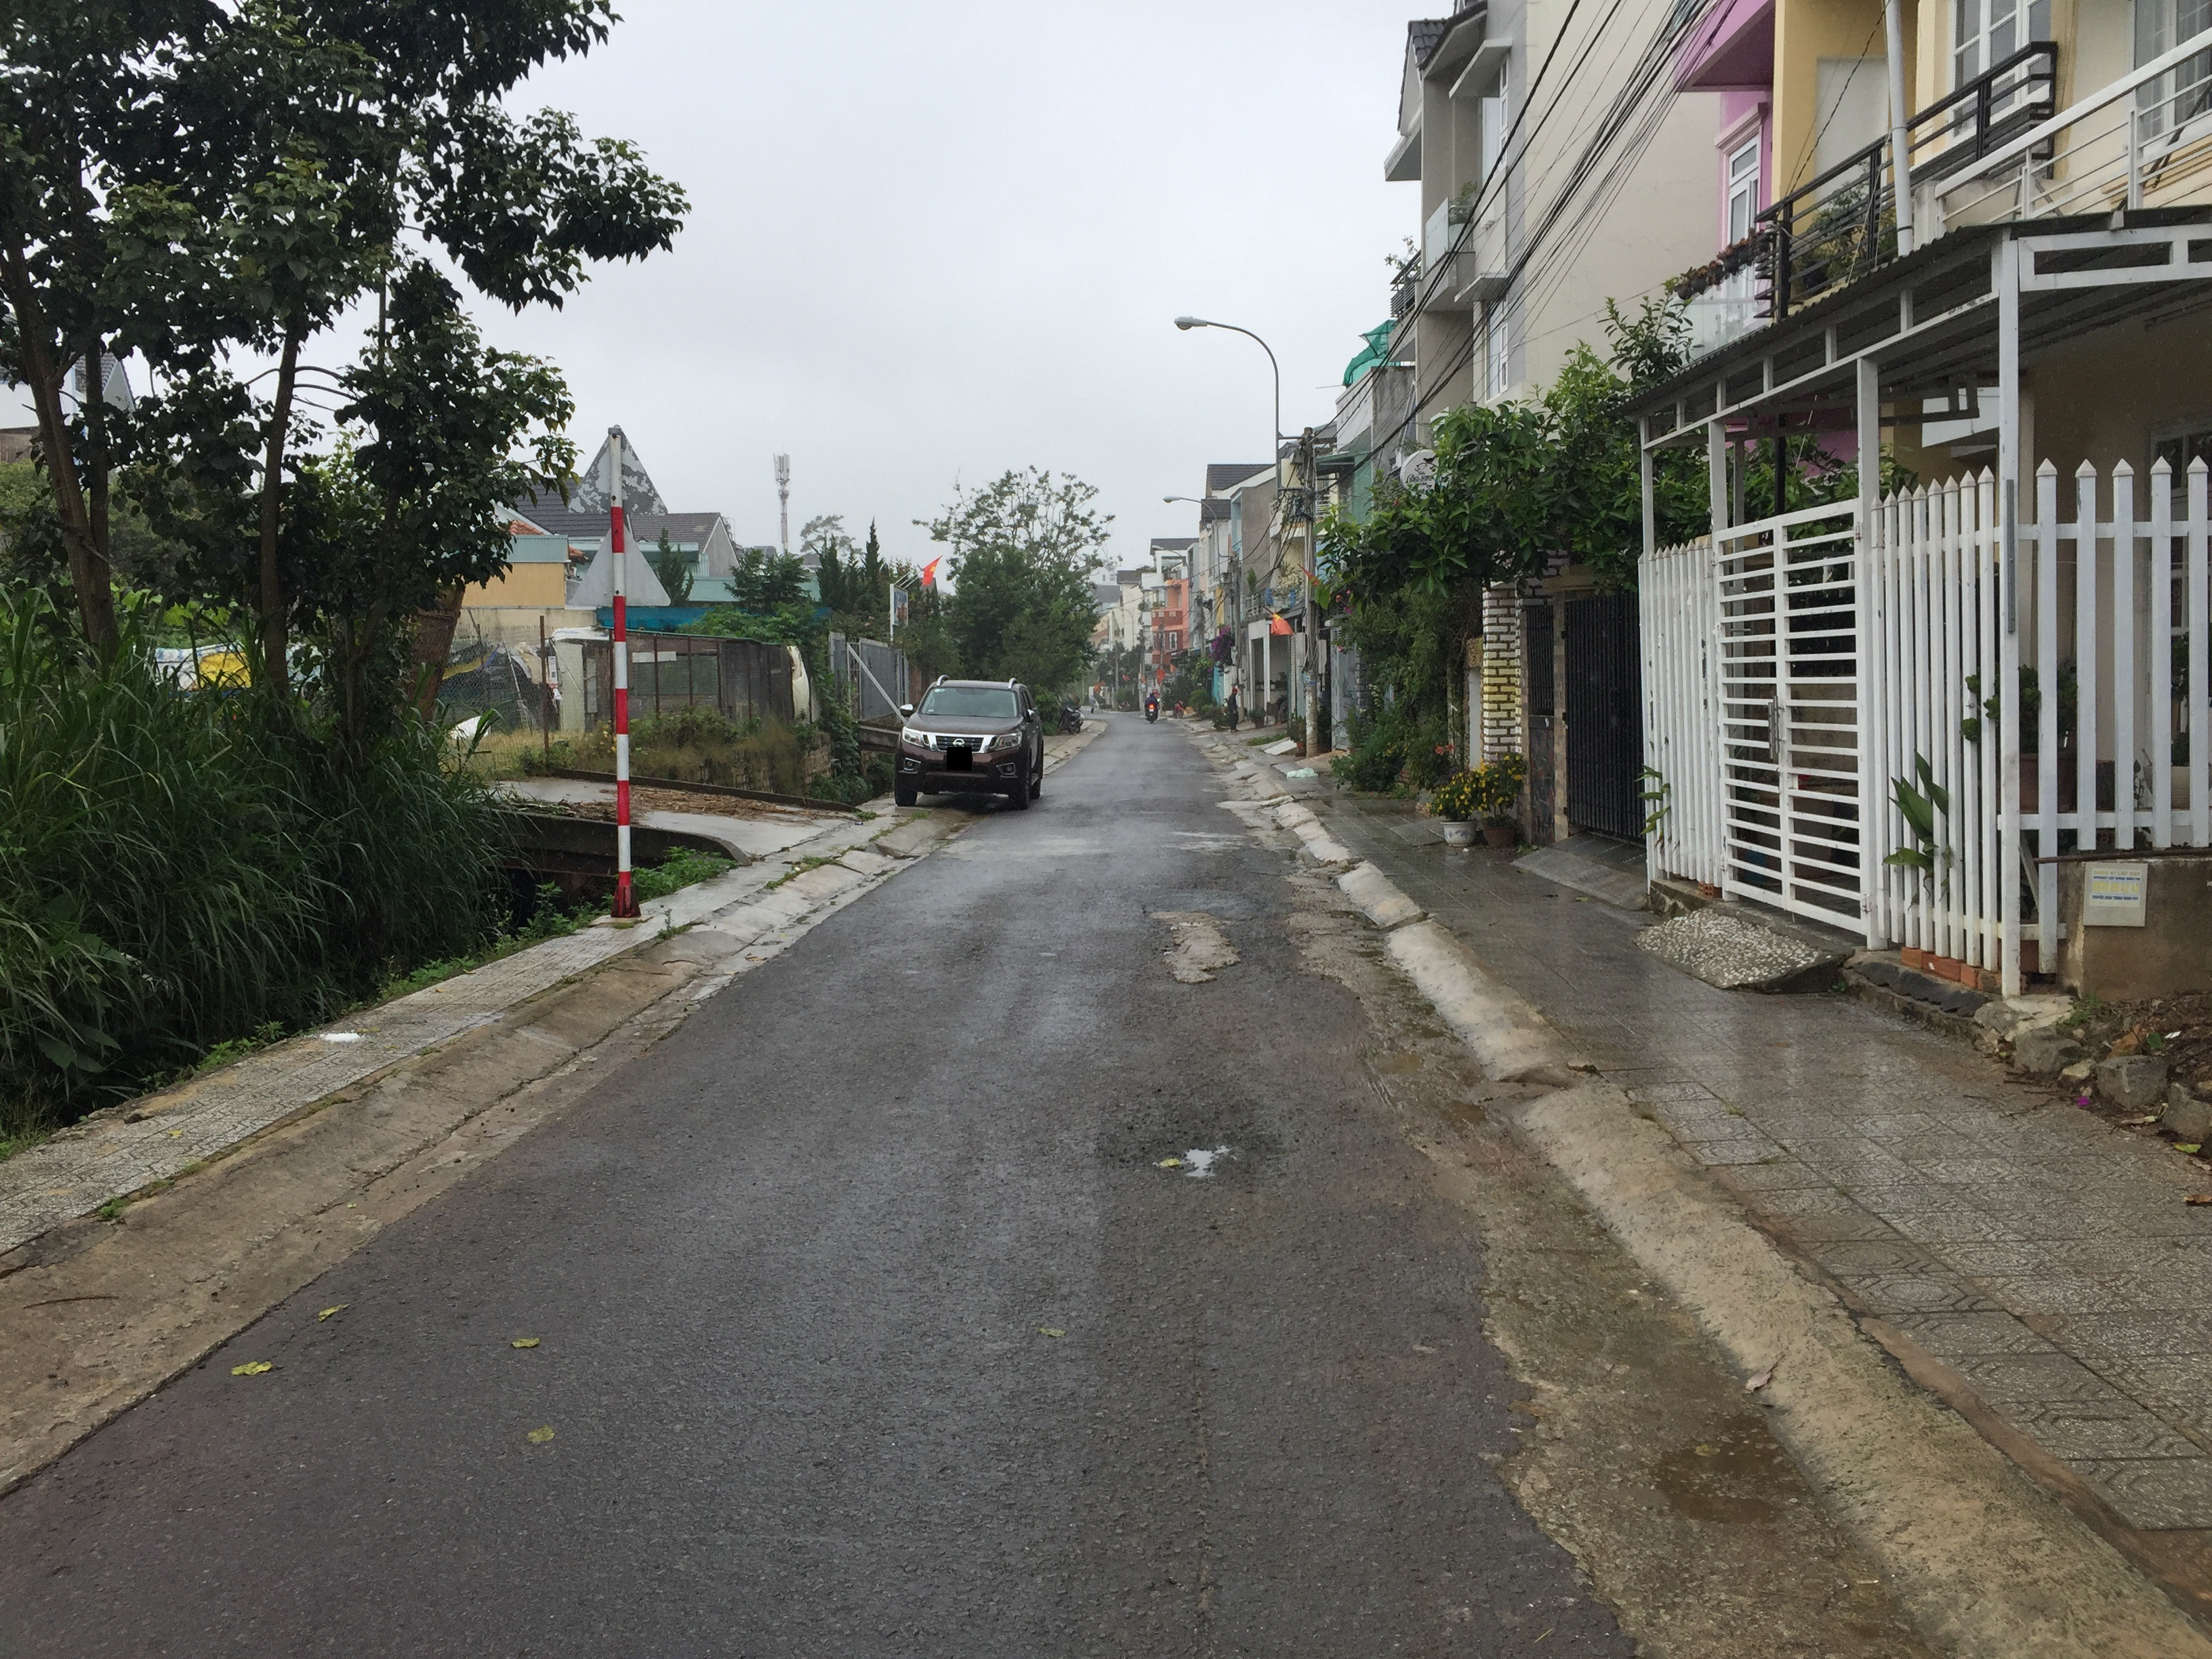hole: (1115, 1121, 1270, 1188), (1155, 943, 1186, 958)
